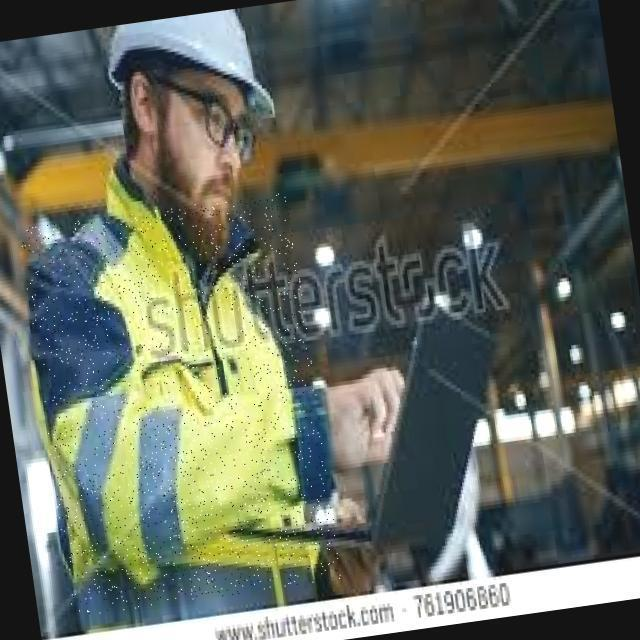helmet: (107, 9, 287, 135)
vest: (19, 192, 343, 618)
